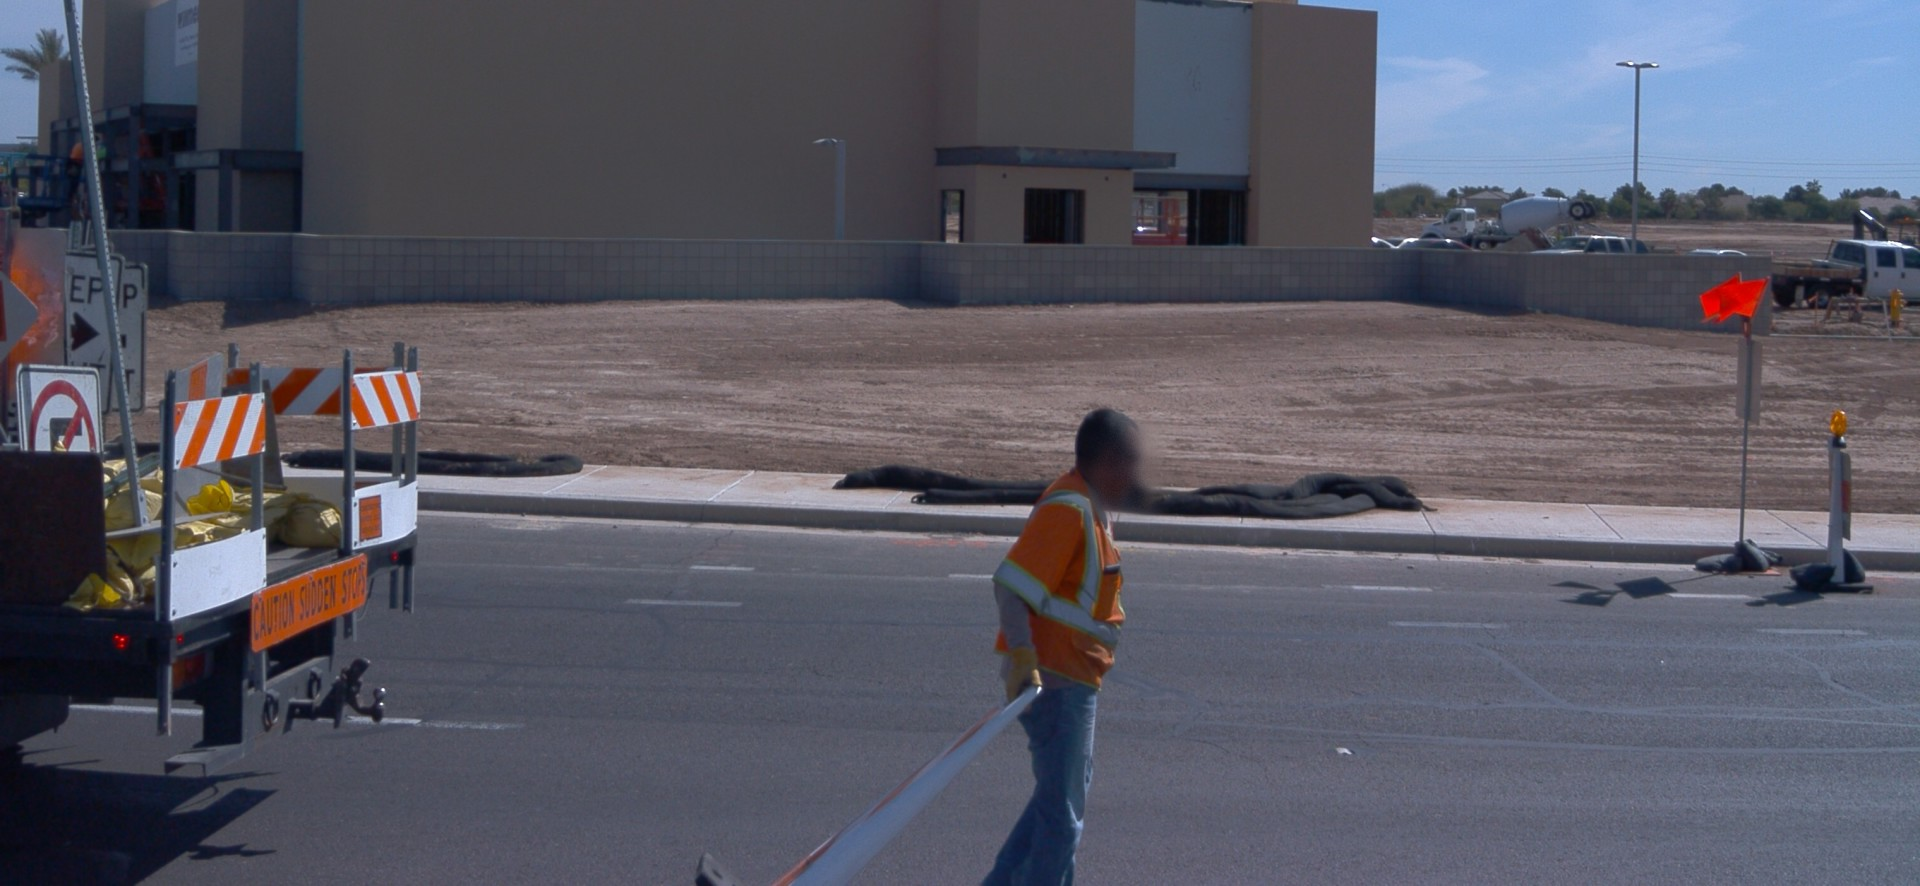TYPE_PEDESTRIAN: (976, 405, 1146, 886), (1553, 221, 1566, 246)
TYPE_VEHICLE: (0, 303, 441, 837), (1420, 194, 1656, 255), (1771, 242, 1920, 308), (1852, 204, 1919, 262), (1523, 236, 1645, 256), (1399, 237, 1483, 259), (1516, 222, 1565, 252), (1690, 248, 1746, 258), (1385, 237, 1423, 249), (1375, 235, 1398, 249)
